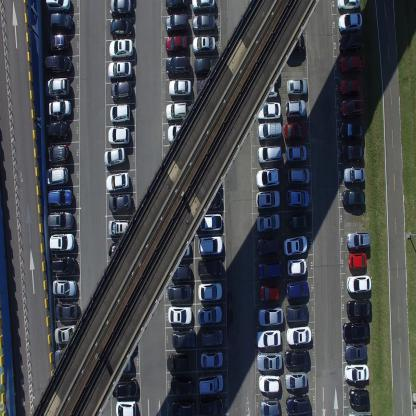car: (338, 53, 365, 76), (254, 327, 282, 349), (257, 304, 284, 326), (342, 321, 370, 342), (43, 54, 72, 74), (339, 119, 364, 142), (338, 30, 364, 52), (256, 144, 282, 166), (108, 38, 134, 60), (44, 76, 70, 98), (285, 325, 312, 346), (197, 372, 224, 393), (193, 56, 220, 77), (256, 166, 280, 189), (54, 323, 78, 346), (165, 11, 189, 34), (45, 142, 69, 165), (197, 256, 222, 278), (286, 394, 311, 416), (283, 234, 308, 256), (284, 188, 309, 210), (197, 304, 222, 326), (257, 120, 282, 142), (45, 120, 70, 142), (48, 211, 74, 232), (339, 98, 365, 119), (107, 61, 133, 82), (256, 351, 283, 371), (50, 255, 77, 275), (108, 192, 131, 215), (288, 211, 312, 233), (340, 142, 364, 164), (283, 120, 307, 142), (281, 33, 305, 55), (166, 54, 190, 76), (257, 258, 282, 279), (255, 189, 280, 210), (197, 280, 222, 301), (191, 13, 216, 34), (44, 165, 69, 186), (198, 234, 224, 254), (111, 377, 137, 397), (346, 298, 372, 318), (166, 123, 192, 143), (54, 347, 77, 369), (165, 100, 188, 122), (285, 279, 309, 300), (256, 212, 280, 233), (285, 349, 310, 369), (256, 236, 281, 256), (171, 328, 196, 348), (107, 241, 132, 261), (256, 100, 281, 120), (341, 189, 366, 209), (47, 188, 73, 207), (49, 233, 75, 252), (346, 274, 372, 293), (104, 146, 126, 168), (170, 375, 193, 396), (192, 35, 215, 56), (107, 124, 130, 145), (106, 171, 129, 192), (167, 236, 191, 256), (166, 351, 190, 371), (286, 303, 310, 323), (108, 354, 132, 374), (346, 230, 370, 250), (168, 78, 192, 98), (45, 33, 69, 53), (50, 12, 74, 32), (198, 396, 223, 415), (107, 218, 132, 237), (52, 278, 77, 297), (54, 302, 79, 321), (344, 363, 369, 382), (348, 387, 370, 408), (256, 78, 278, 99), (199, 212, 222, 232), (285, 371, 308, 391), (287, 167, 310, 187), (344, 342, 367, 362), (168, 262, 191, 282), (285, 143, 308, 163), (196, 78, 219, 98), (165, 34, 188, 54), (110, 18, 133, 38), (199, 348, 223, 367), (199, 327, 223, 346), (338, 12, 362, 31), (48, 99, 72, 118), (167, 284, 192, 302), (284, 98, 306, 118), (110, 80, 132, 100), (109, 103, 131, 123), (258, 374, 281, 393), (198, 190, 221, 209), (343, 165, 366, 184), (168, 306, 192, 324), (108, 0, 132, 17), (170, 400, 195, 416), (348, 250, 367, 271), (338, 78, 360, 96), (259, 283, 279, 302), (260, 397, 281, 415), (286, 258, 306, 276), (115, 400, 136, 415), (191, 0, 216, 12), (164, 0, 190, 11), (46, 0, 70, 11), (337, 0, 360, 11), (347, 410, 372, 416)
